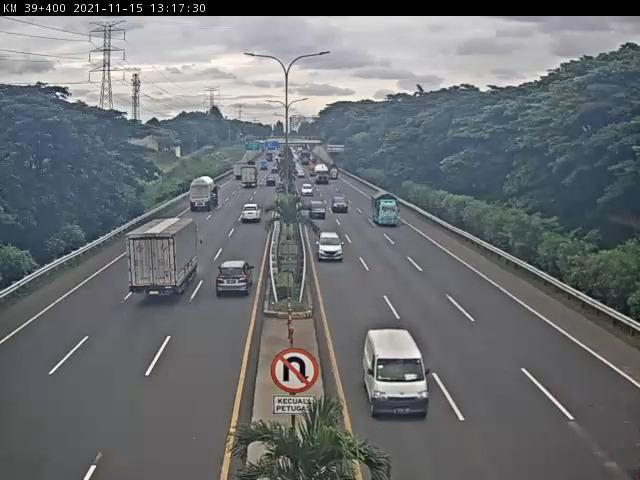car: (362, 331, 432, 420), (216, 259, 254, 300), (315, 230, 347, 265), (239, 203, 265, 228), (307, 198, 328, 222), (331, 195, 352, 216)
truck: (127, 215, 199, 304), (189, 176, 221, 215), (371, 191, 403, 229)
